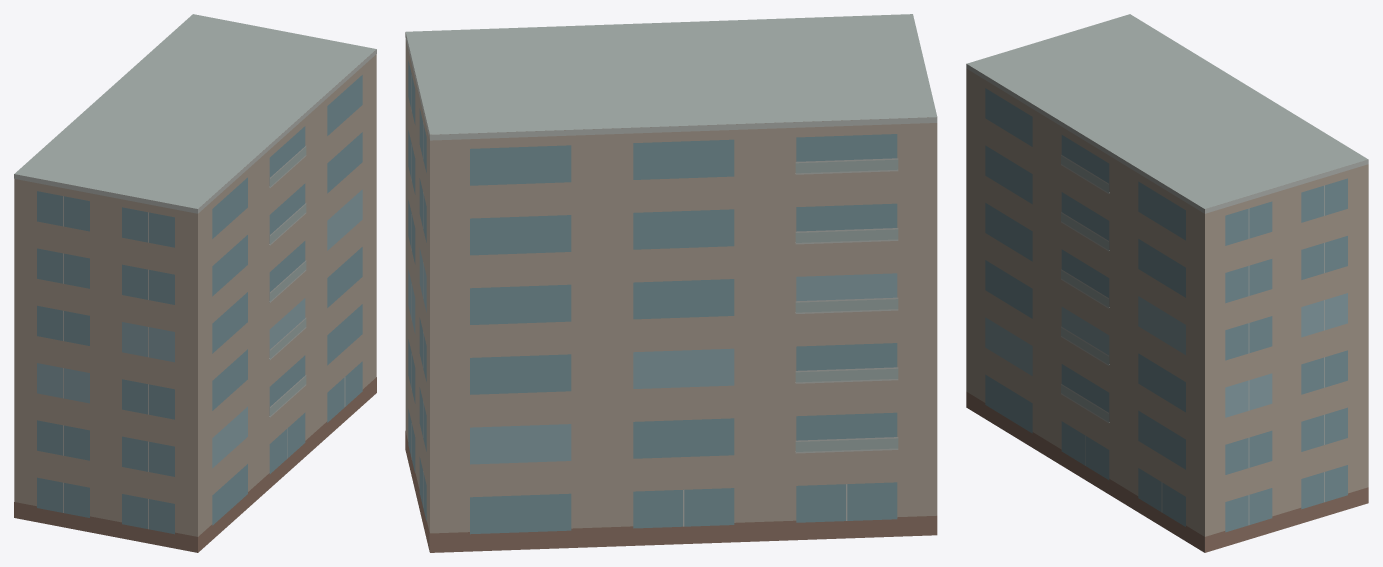
The model's file is survey-upis-32721939.glb.
3 renders of one model, left to right at view 1: azimuth 30°, elevation 25°; view 2: azimuth 150°, elevation 25°; view 3: azimuth 270°, elevation 25°, orthographic. The views are drawn at different scales.
Parts seen in each view (by area): view 1: survey-upis-32721939.tmp; view 2: survey-upis-32721939.tmp; view 3: survey-upis-32721939.tmp.
Boxes of the visible parts, <box> form: survey-upis-32721939.tmp: <box>14,14,376,552</box>; survey-upis-32721939.tmp: <box>405,14,937,552</box>; survey-upis-32721939.tmp: <box>966,14,1368,552</box>.
Bounding box in the file's own units: 21.5 × 17.65 × 18.72.
